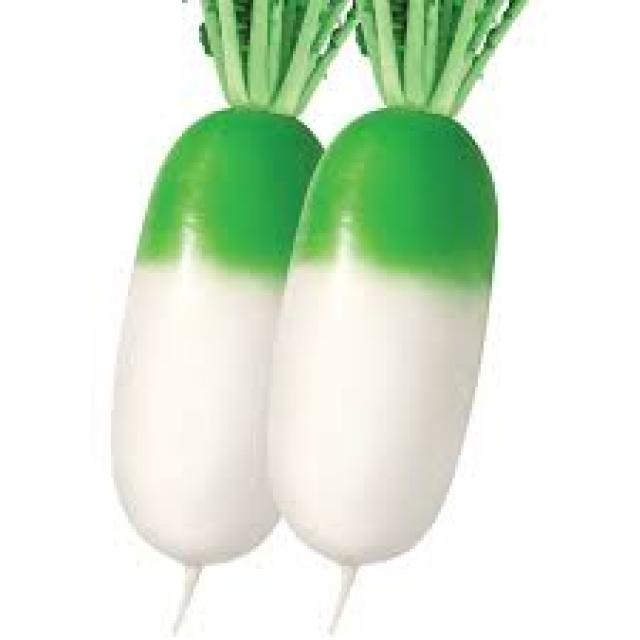raddish: (270, 111, 498, 566)
